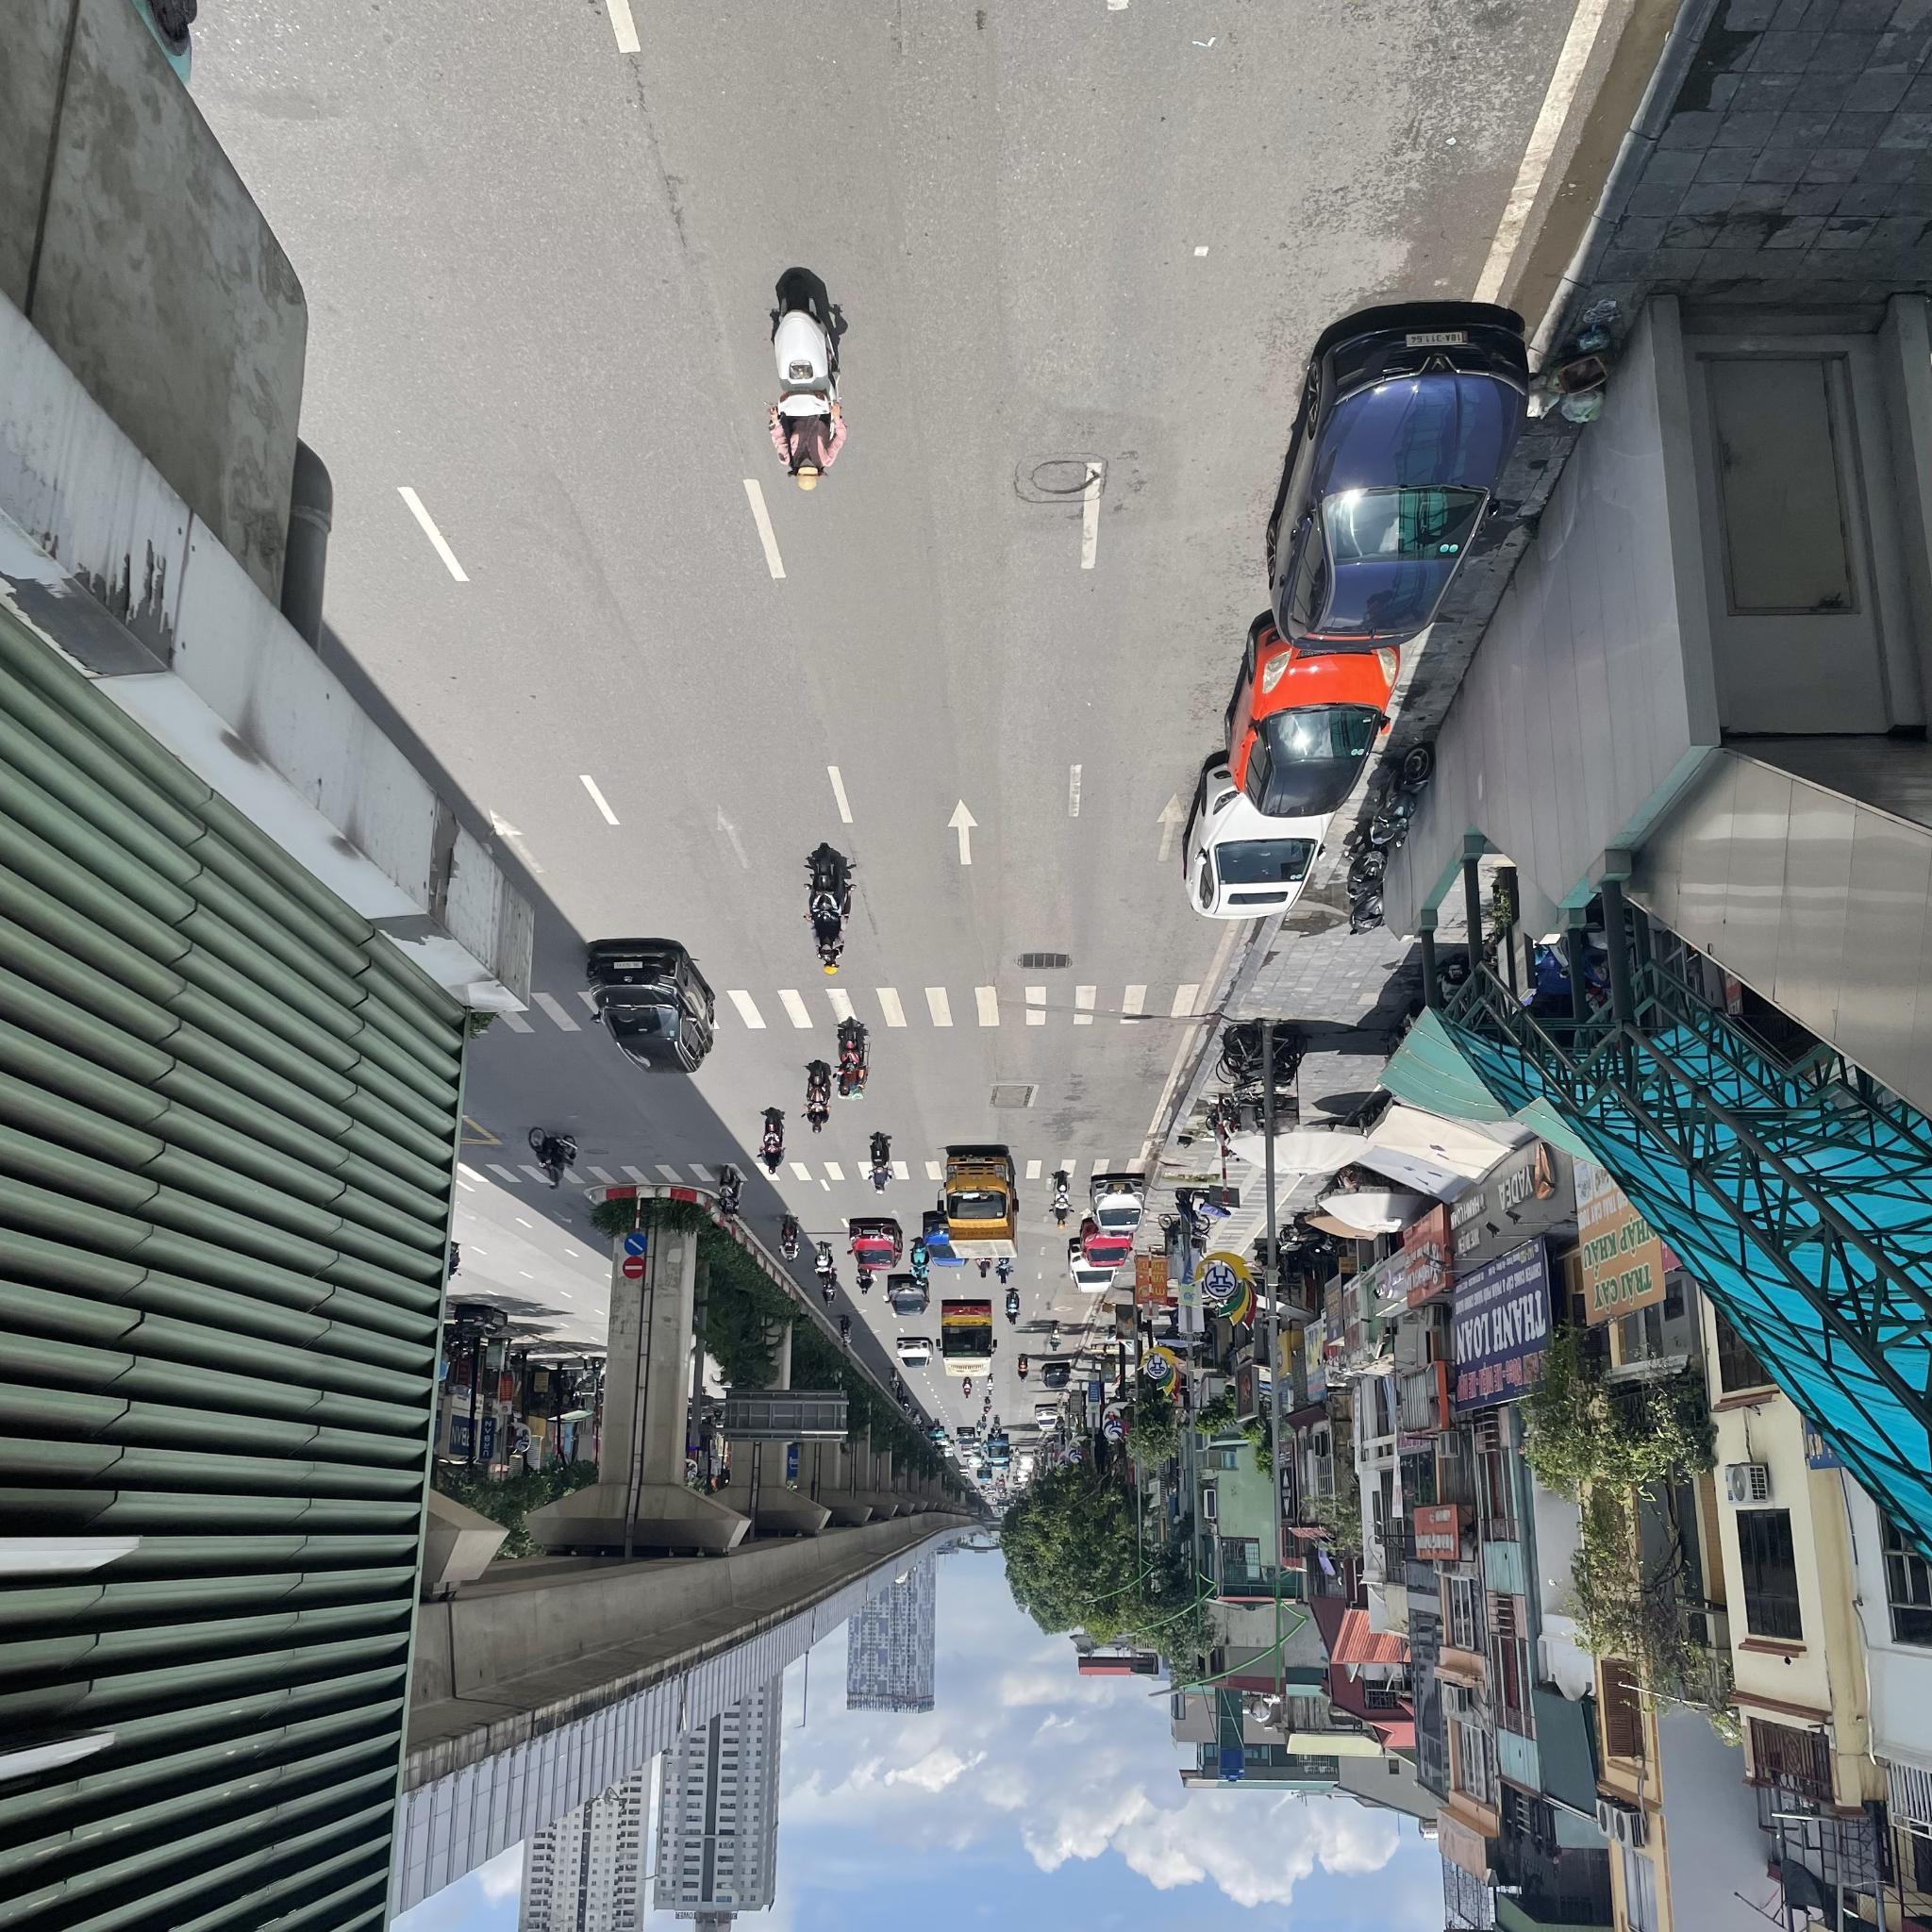car: (1265, 310, 1532, 653), (1223, 617, 1401, 819), (1180, 757, 1339, 922), (584, 941, 717, 1076), (936, 1148, 1019, 1260), (936, 1302, 998, 1378), (1088, 1175, 1150, 1235), (846, 1217, 904, 1272), (1063, 1240, 1120, 1295), (1077, 1219, 1132, 1269), (885, 1276, 931, 1316), (897, 1341, 932, 1369)
motobike: (764, 272, 849, 490), (801, 840, 851, 978), (524, 1127, 580, 1192), (830, 1017, 872, 1102), (801, 1060, 833, 1134), (755, 1106, 789, 1173), (711, 1166, 743, 1226), (863, 1132, 893, 1196), (1047, 1168, 1074, 1228), (775, 1214, 801, 1263), (908, 1238, 931, 1286), (812, 1240, 833, 1286), (1040, 1364, 1072, 1389), (993, 1254, 1014, 1286), (819, 1272, 837, 1307), (855, 1263, 872, 1297), (837, 1315, 855, 1348), (1005, 1288, 1021, 1325), (1047, 1320, 1062, 1352), (886, 1368, 901, 1394), (1017, 1353, 1030, 1384), (985, 1375, 996, 1399), (961, 1380, 973, 1399)
